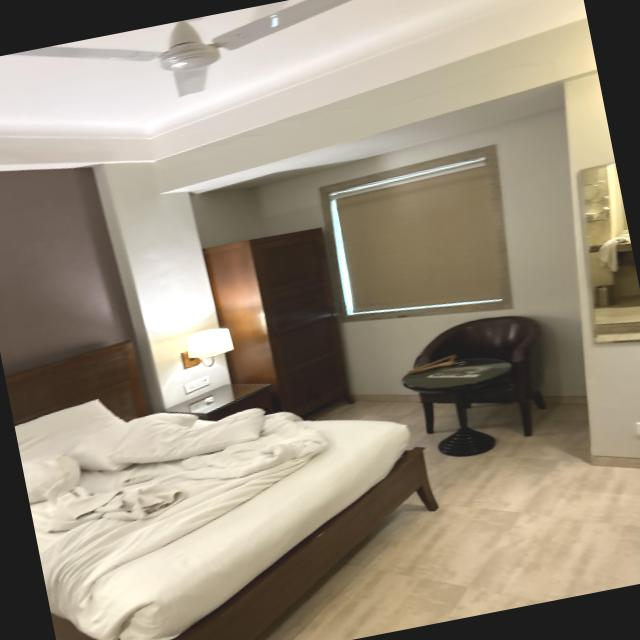mess: (15, 353, 427, 640)
